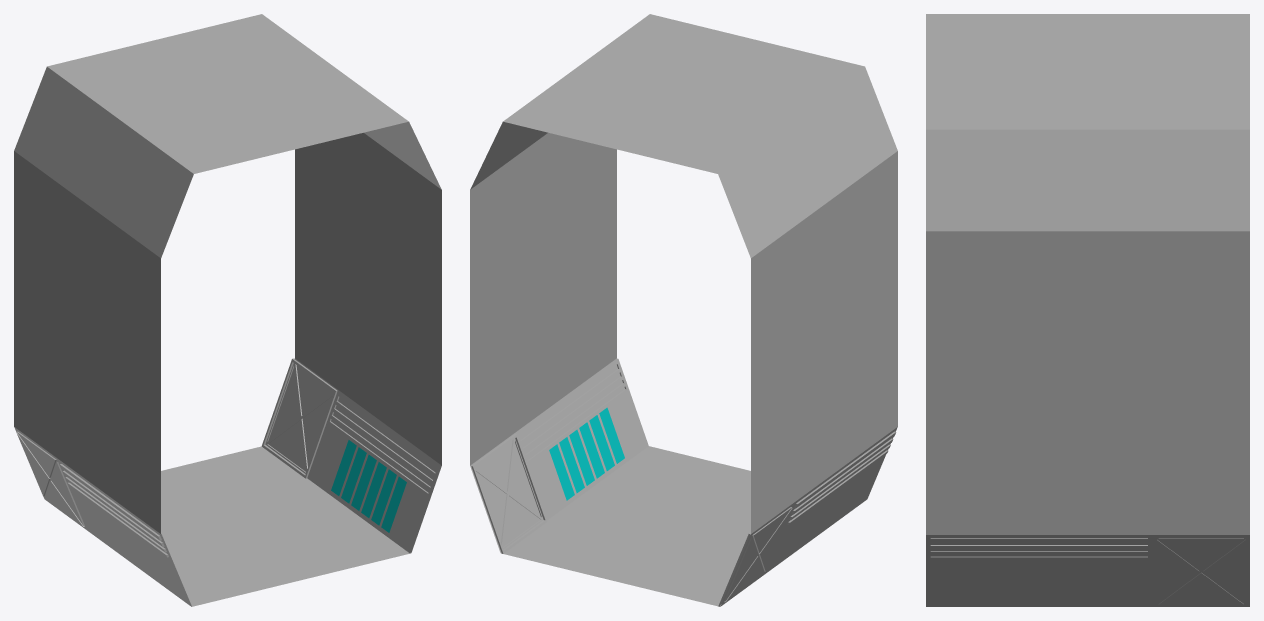
The model's file is Hallway_high.fbx.
The picture shows the model from 3 angles, left to right: view 1: azimuth 30°, elevation 25°; view 2: azimuth 150°, elevation 25°; view 3: azimuth 270°, elevation 25°; orthographic projection. The views are drawn at different scales.
Visible parts, largest first — view 1: Hallway_high; view 2: Hallway_high; view 3: Hallway_high.
Part boxes in pixels (<box>): Hallway_high: <box>14,14,441,606</box>; Hallway_high: <box>470,14,897,606</box>; Hallway_high: <box>926,14,1249,606</box>.
Size of the model in its own units: 3.48 by 5.11 by 3.15.
